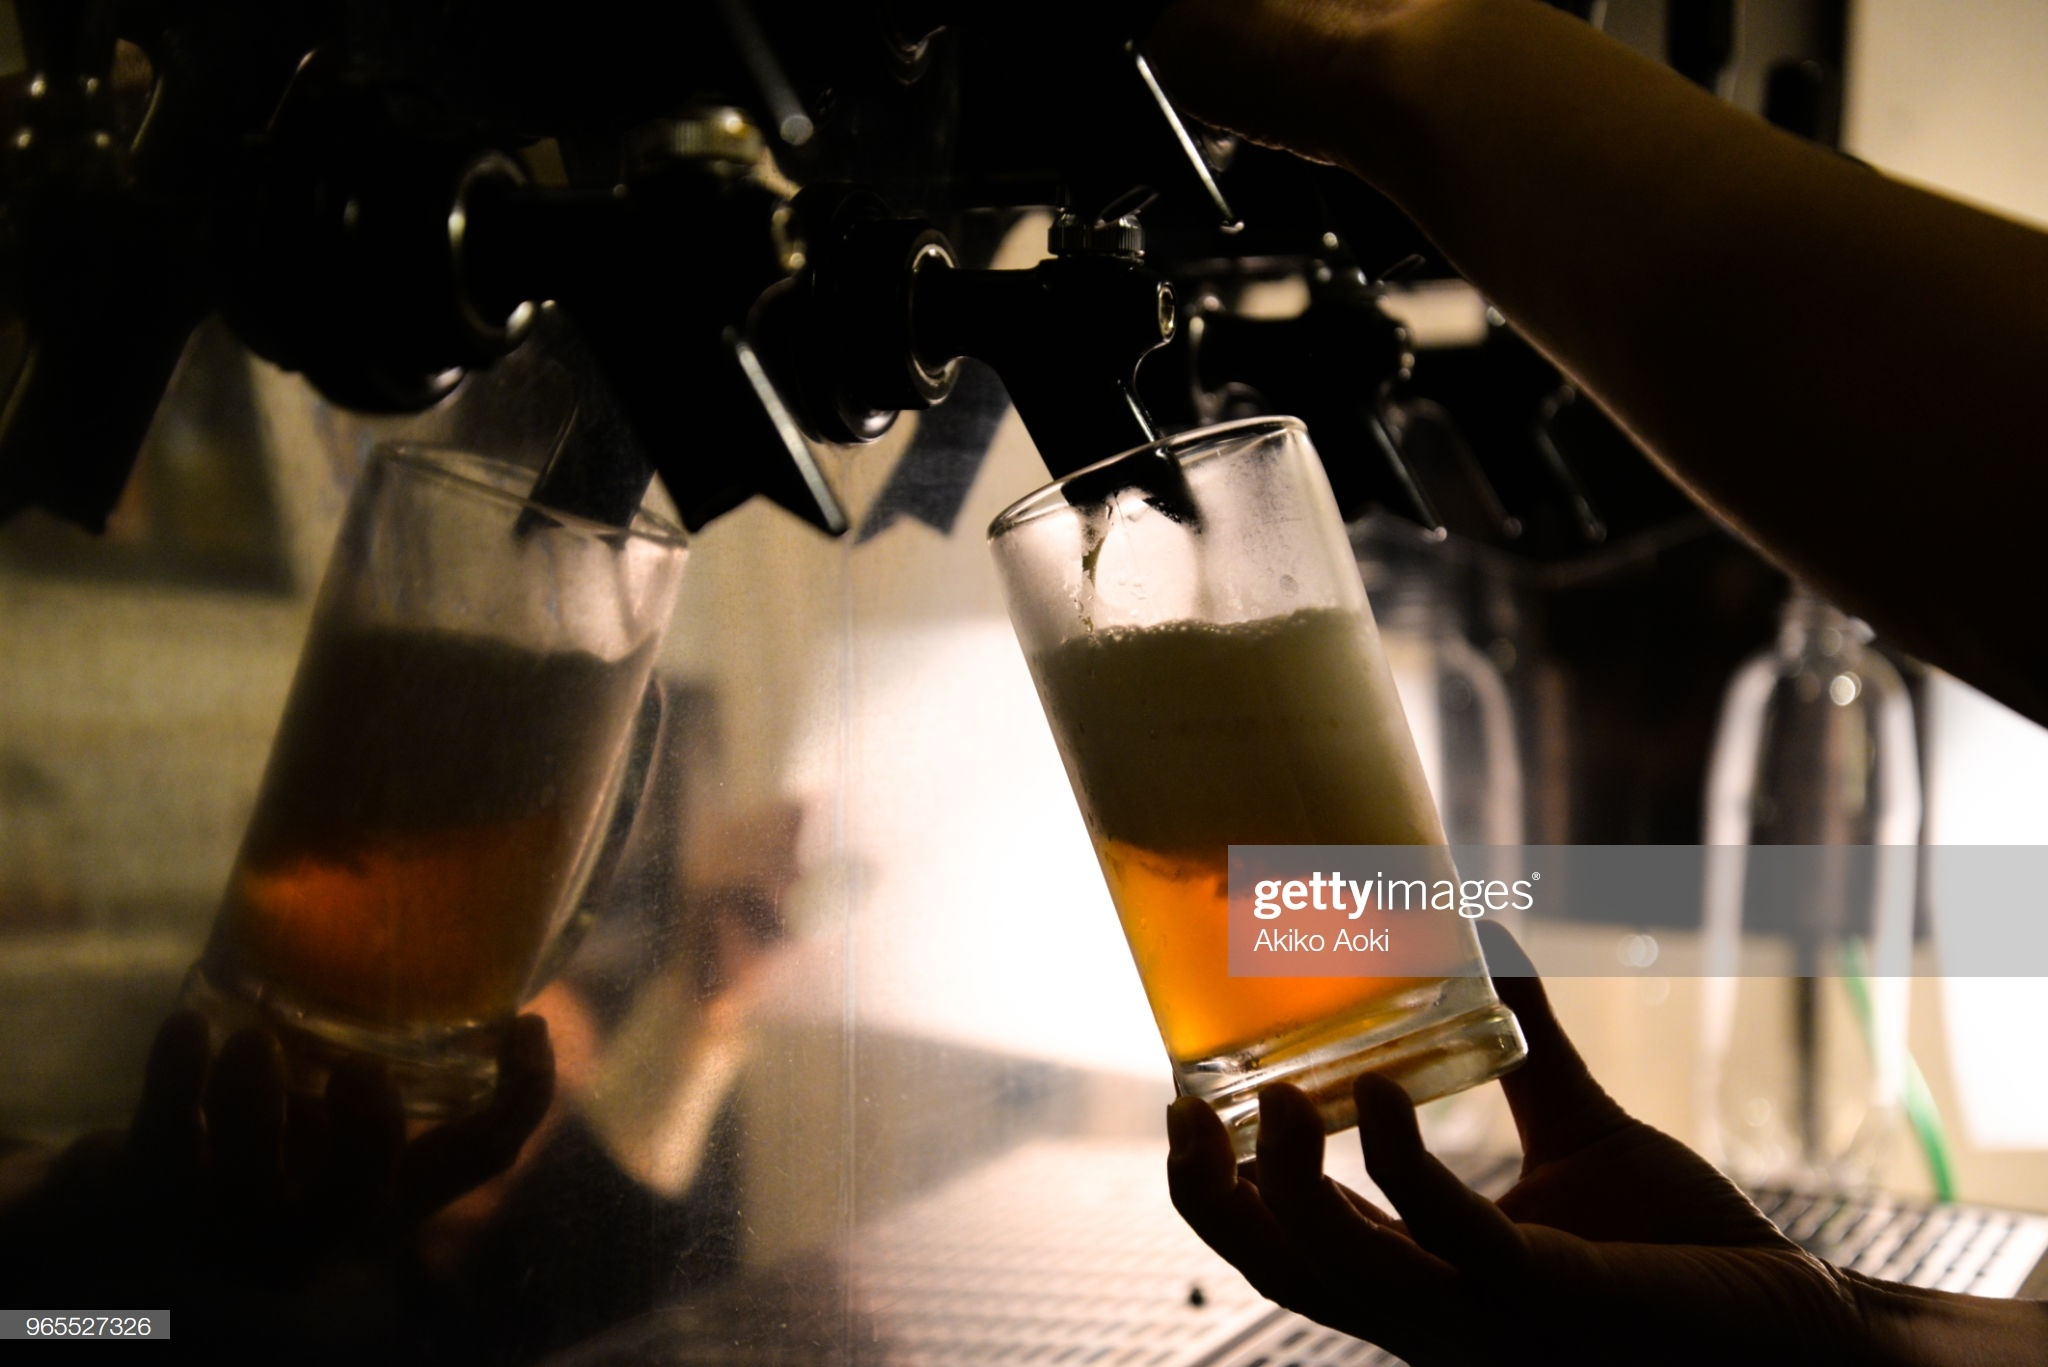glassBeer: (1002, 412, 1516, 1118)
